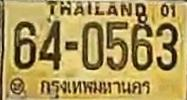0: (81, 21, 104, 70)
3: (155, 22, 178, 71)
4: (39, 20, 61, 70)
5: (106, 20, 129, 70)
6: (131, 22, 153, 71), (14, 21, 36, 69)
BKK: (36, 77, 156, 100)
